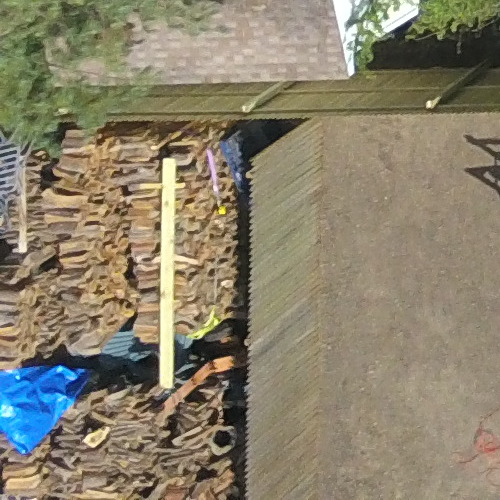tarp: (1, 346, 114, 471)
